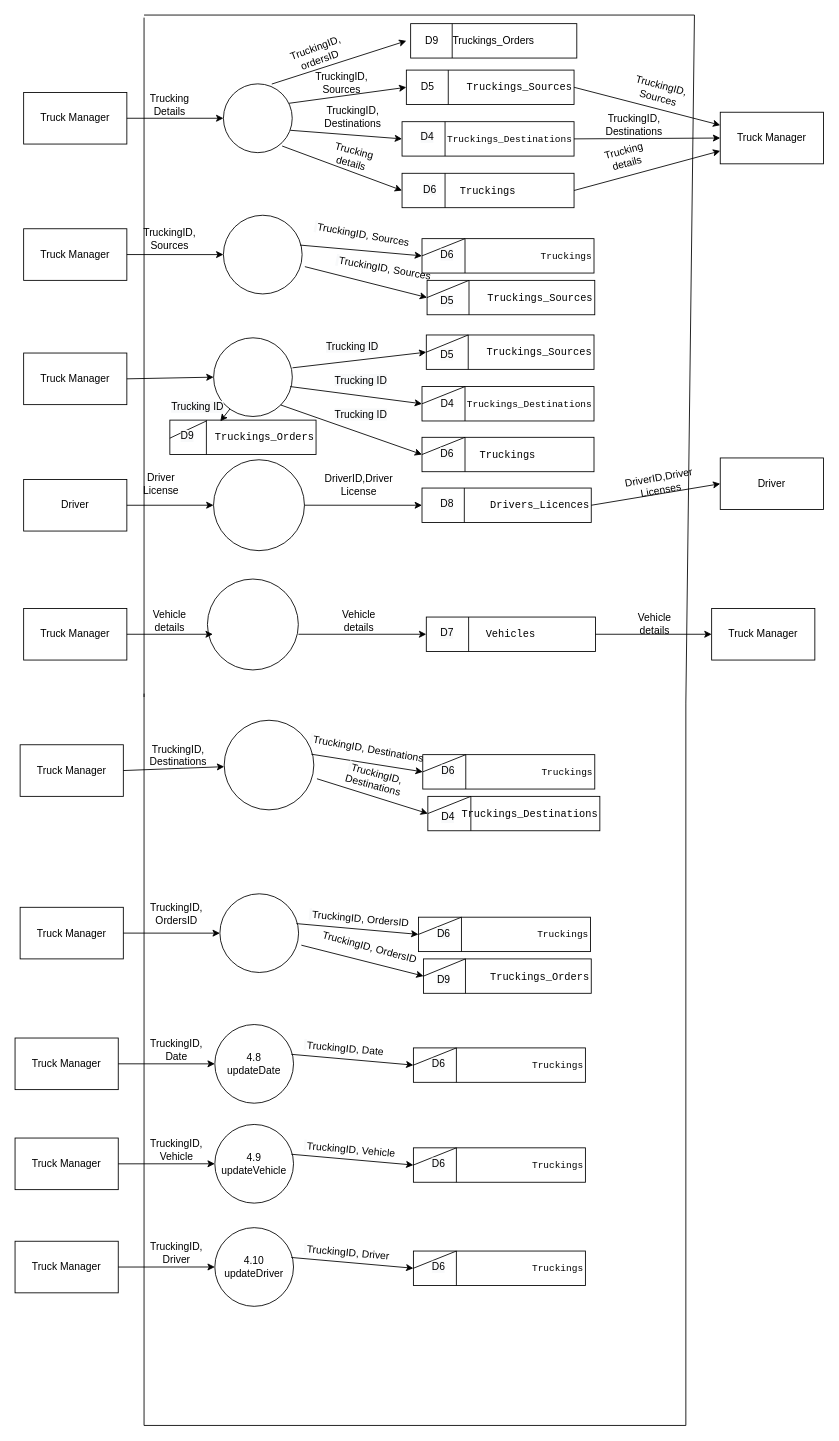
This 839x1441 diagram has some shape labels left out. Each missing label, with the centre of its shape:
4.1 addTrucking: [257,118]
4.2 updateSources: [262,254]
4.3 deleteTruckings: [252,376]
4.4 addDriverLicense: [258,505]
4.5 addVehicle: [252,624]
4.6 updateDestinations: [268,764]
4.7 updateOrdersID: [259,932]
